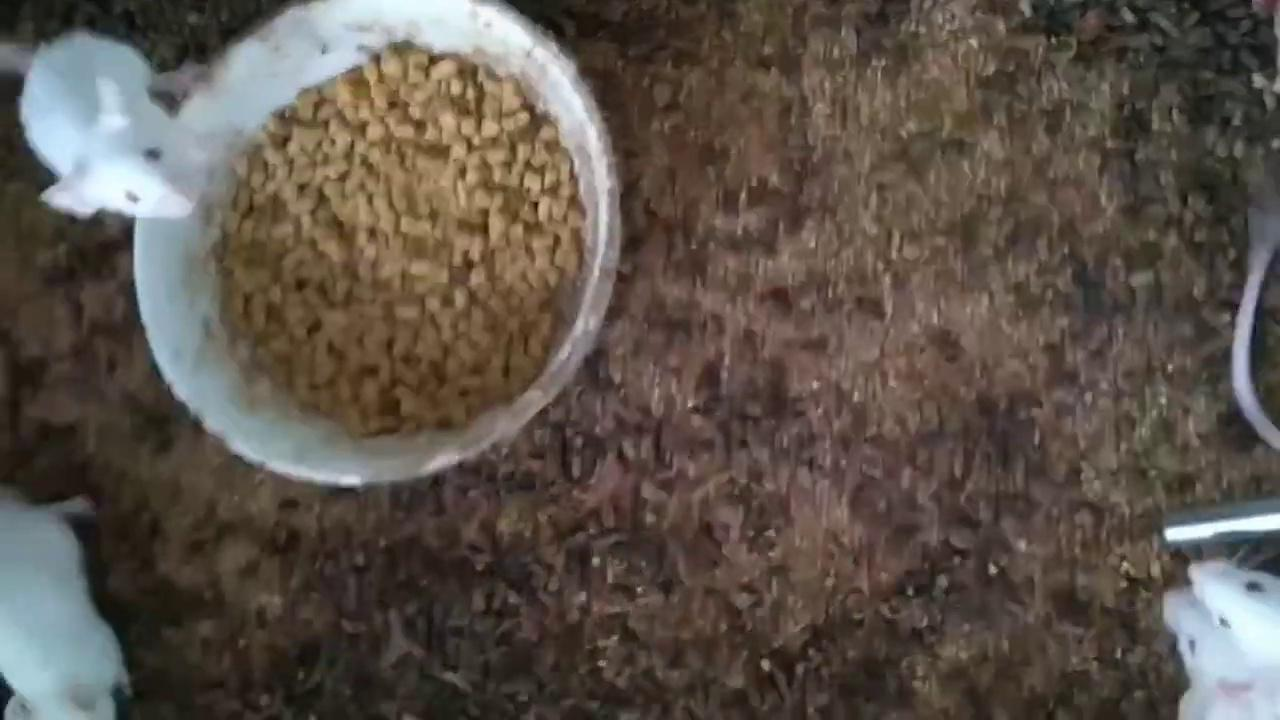rat: (0, 30, 218, 220), (0, 493, 138, 720), (1198, 563, 1280, 720), (1168, 593, 1247, 720)
